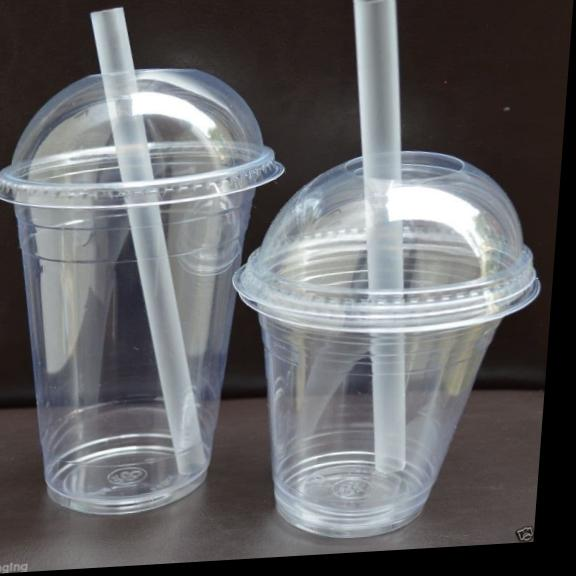Plastik: (0, 70, 282, 513), (235, 152, 538, 537)
